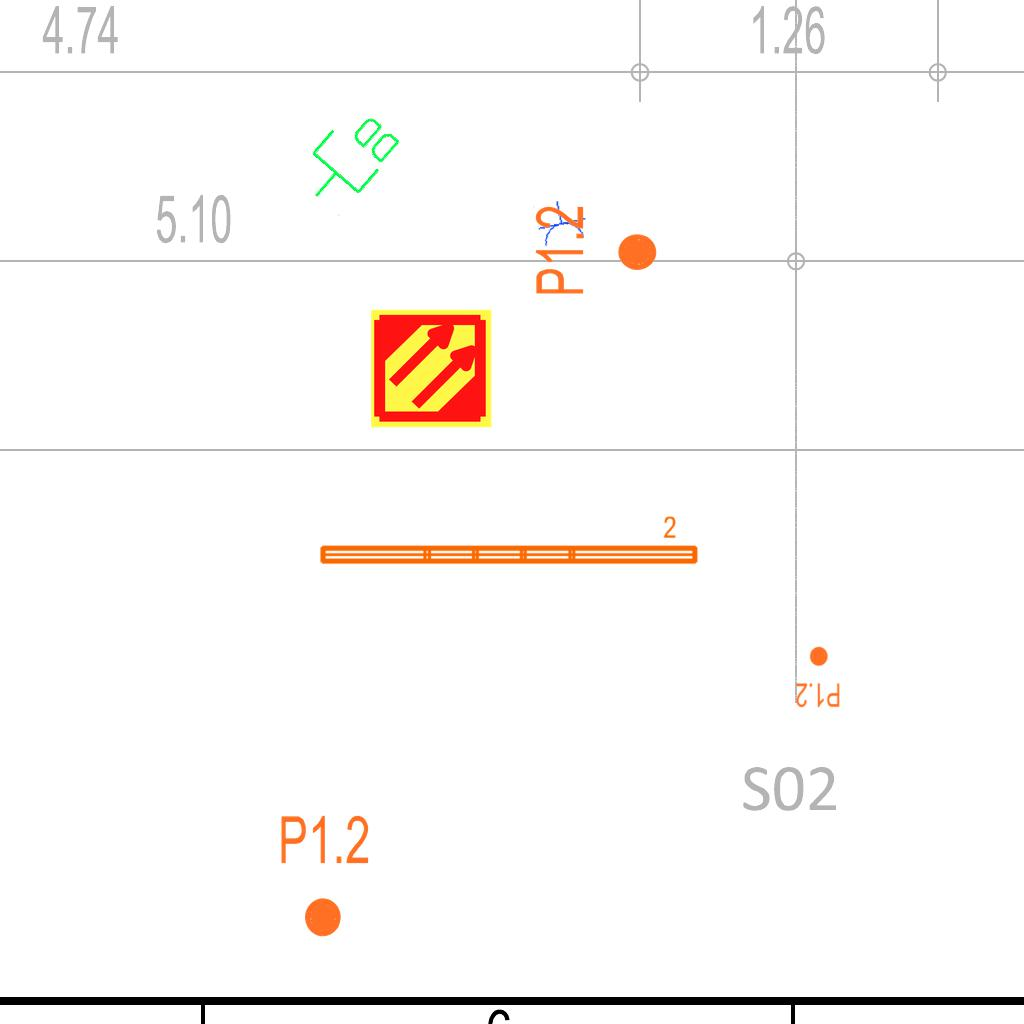ASR_Ansaugrauchmelder: (369, 306, 494, 431)
Ambulanz_Pendelleuchte_LED: (315, 514, 702, 570)
Datenanschluss_zweifach: (288, 97, 409, 222)
Downlight_LED_Einbauleuchten_Flur: (278, 812, 371, 940), (532, 204, 660, 297), (795, 645, 841, 709)
Schukosteckdose_einfach: (532, 196, 590, 249)
